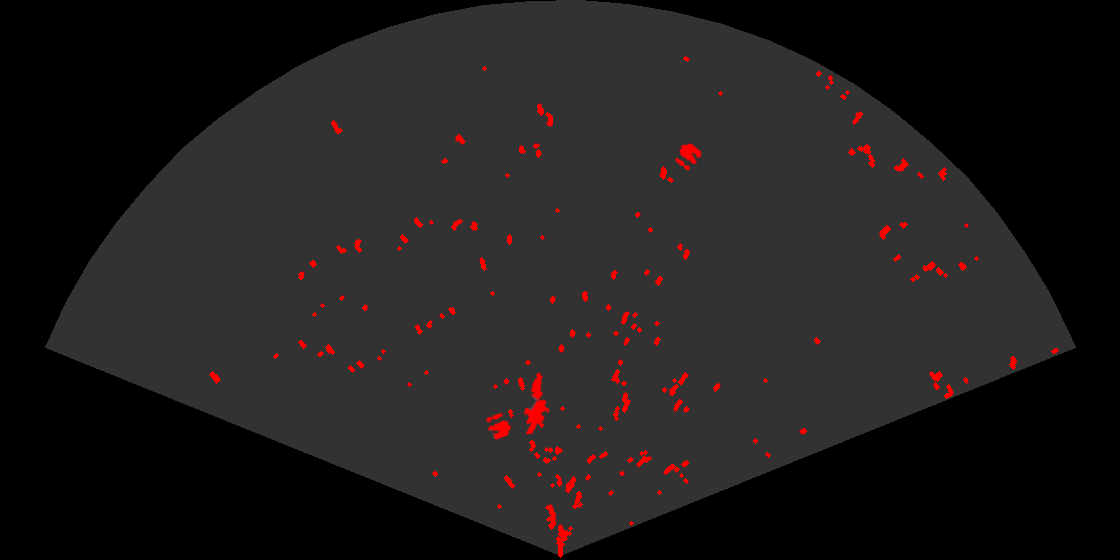ball: (674, 141, 703, 172), (484, 411, 513, 441)
frogman: (522, 371, 551, 434)
